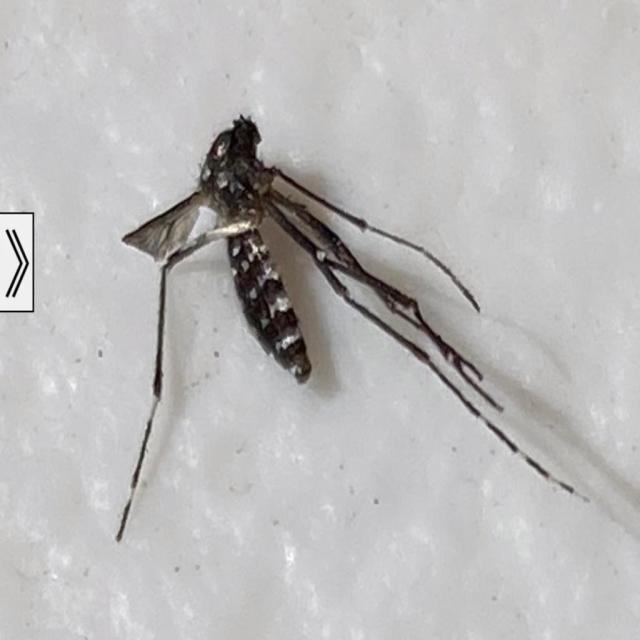albopictus: (103, 97, 578, 531)
